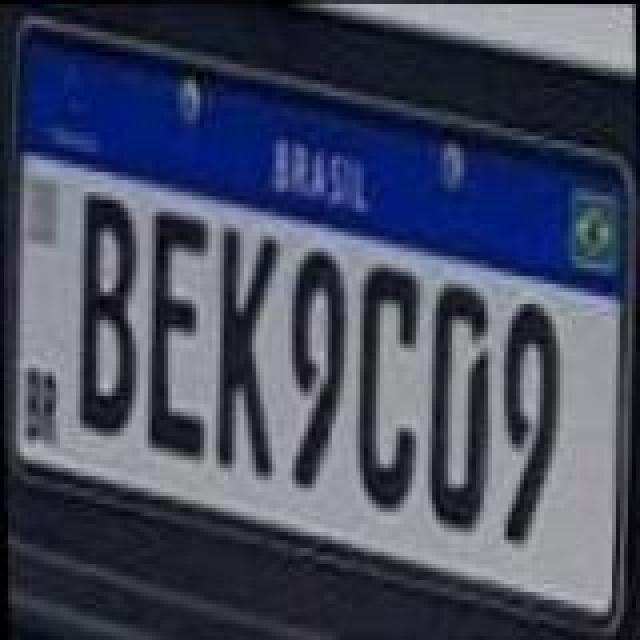9: (498, 298, 566, 550), (286, 248, 350, 492)
B: (70, 190, 142, 442)
C: (352, 262, 424, 514)
D: (426, 282, 494, 534)
E: (142, 214, 214, 466)
K: (210, 220, 282, 476)
